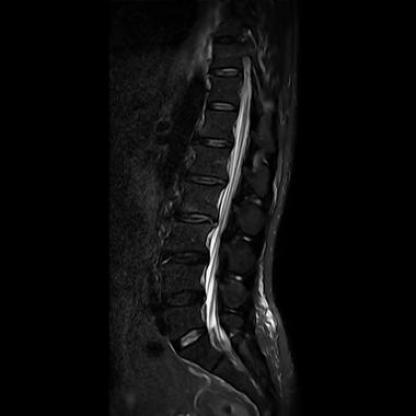Annular Tearrotation: (159, 285, 207, 309)
Disc Bulgerotation: (159, 247, 210, 271), (159, 285, 207, 309), (172, 207, 217, 228)
Disc Protrusionrotation: (183, 172, 227, 190)
